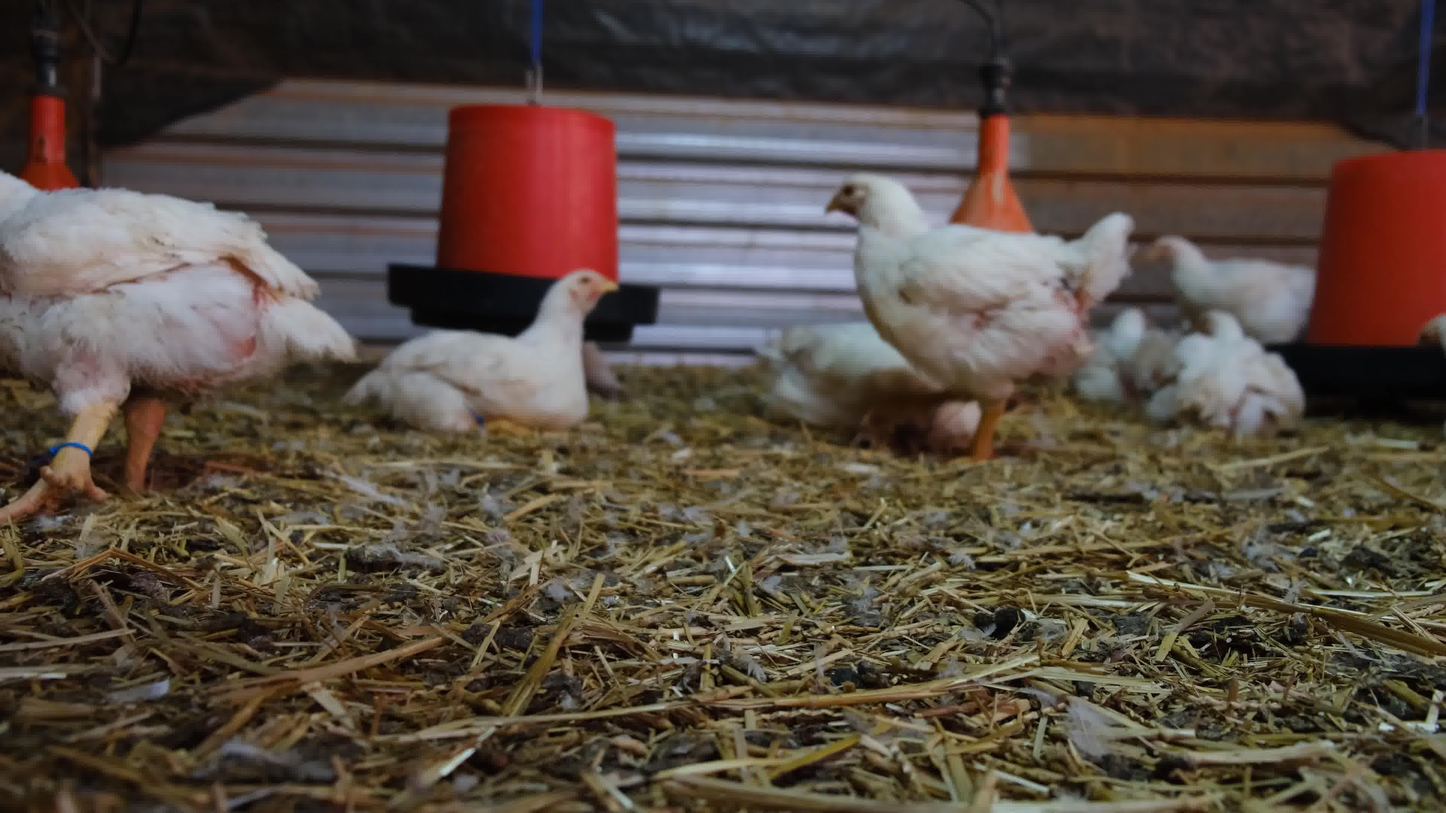AbNormal: (345, 262, 629, 450), (742, 299, 968, 457), (1169, 301, 1309, 433)
Normal: (2, 119, 380, 550), (817, 167, 1162, 444), (1139, 231, 1337, 343)
